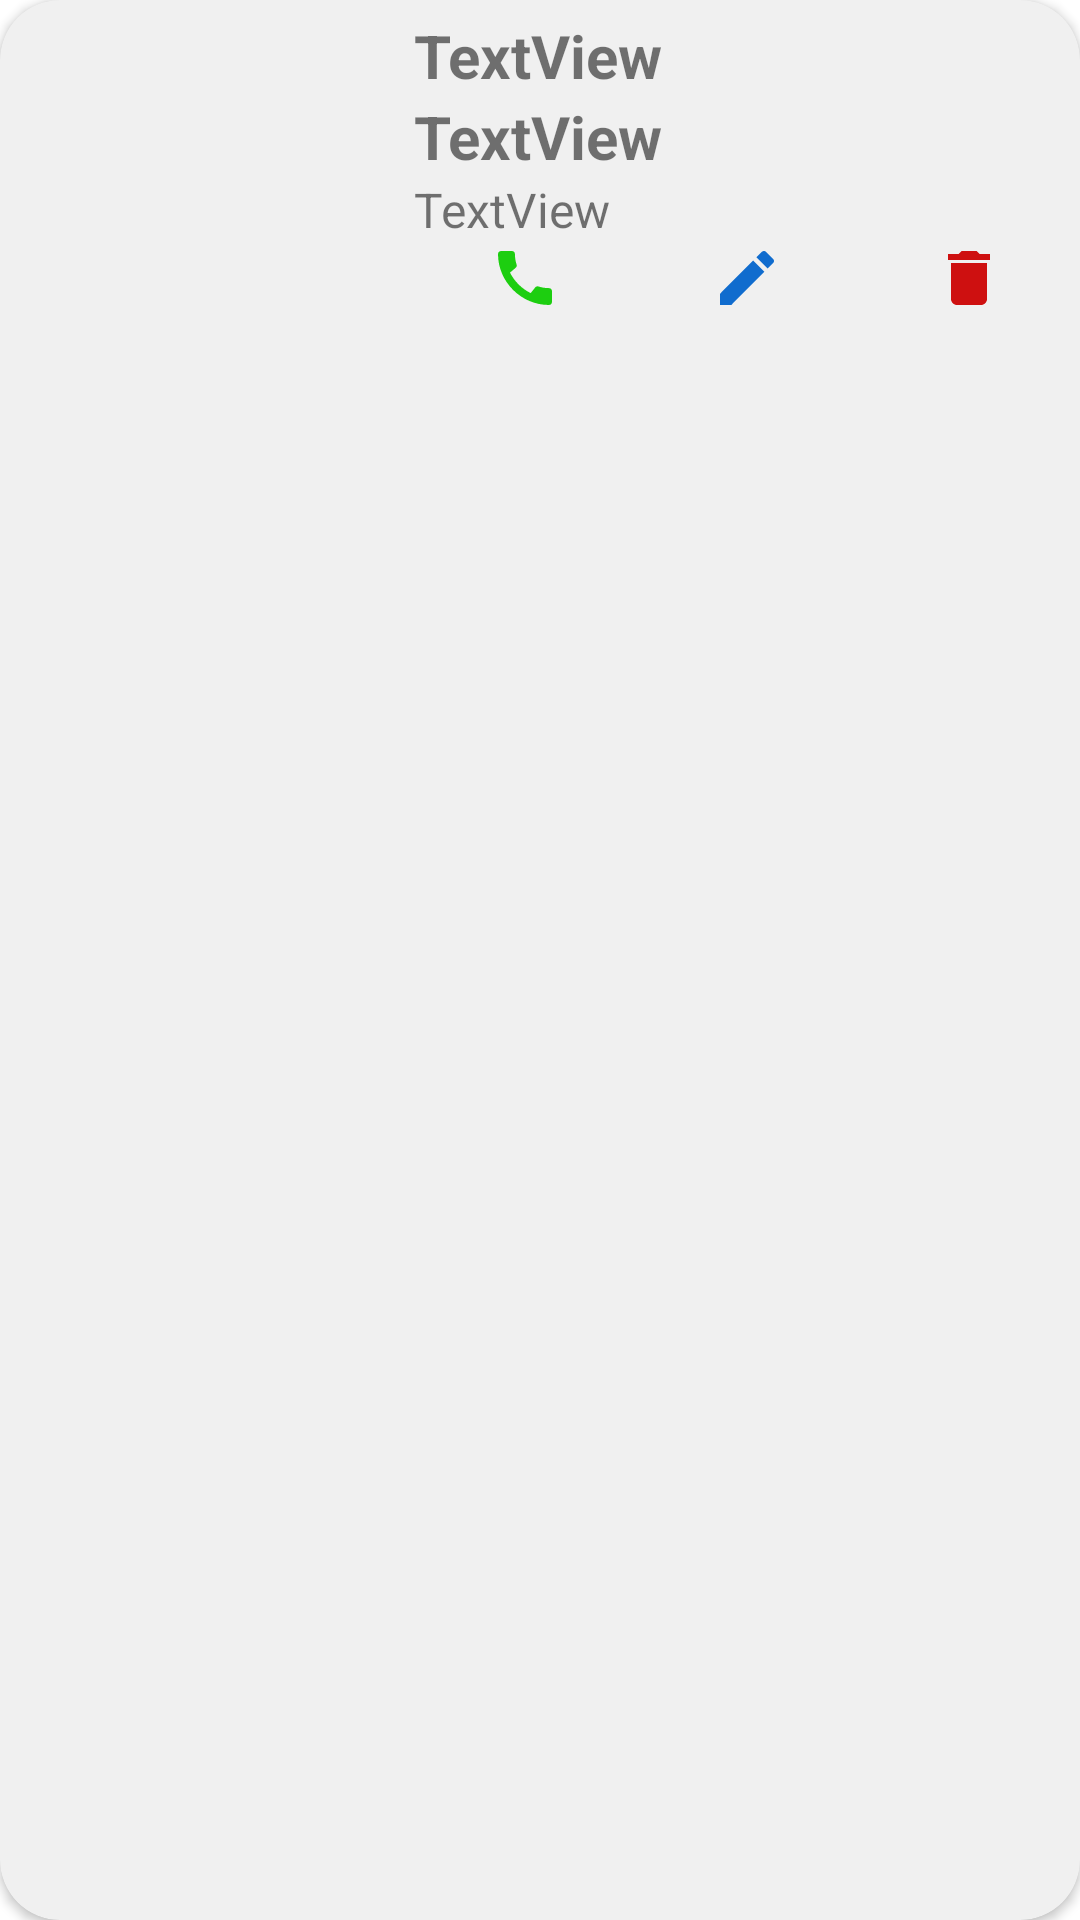

Icons on this 1080w x 1920h Android screen, each with its box as box(x1, y1, x2, y2):
call: box(498, 251, 552, 305)
delete: box(948, 251, 990, 305)
edit: box(720, 251, 774, 305)
